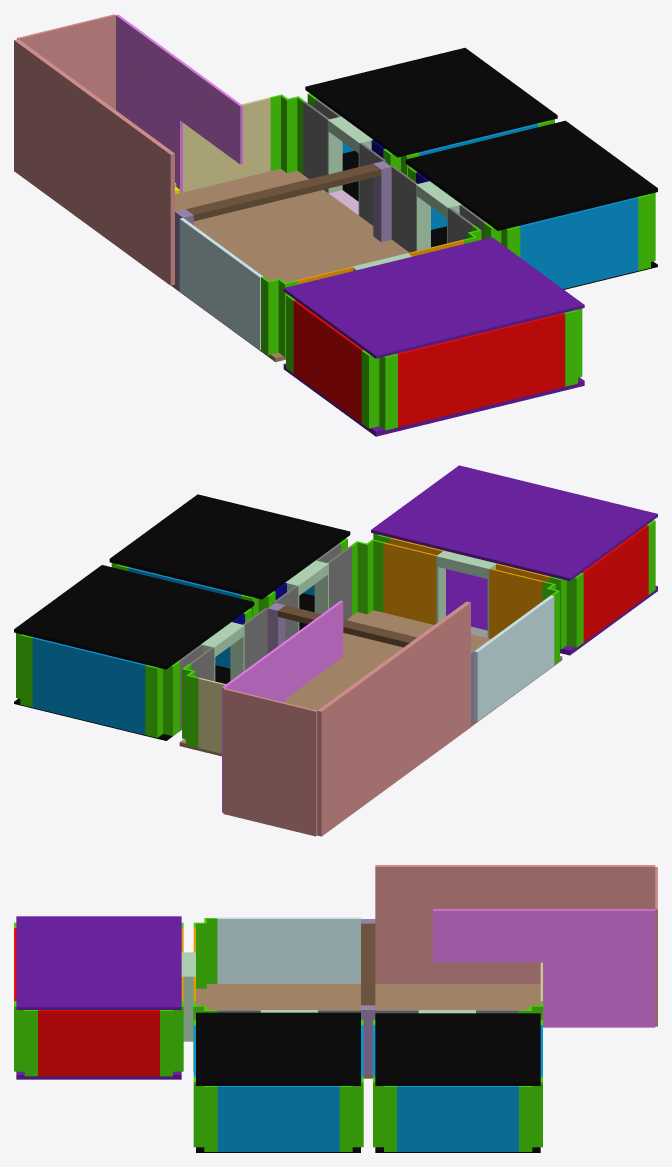
The model's file is blockout_HUD.fbx.
3 renders of one model, top to bottom at view 1: azimuth 30°, elevation 25°; view 2: azimuth 150°, elevation 25°; view 3: azimuth 270°, elevation 25°, orthographic. The views are drawn at different scales.
Parts seen in each view (by area): view 1: pPlane14, pPlane65, pPlane66, pPlane67, pPlane18, pPlane51, hallway_01, pPlane83, pPlane62, pPlane96, pPlane63, pPlane10 (+15 smaller); view 2: pPlane14, pPlane65, pPlane66, pPlane67, pPlane63, pPlane77, pPlane62, hallway_01, pPlane18, pPlane96, pPlane4, pPlane89 (+20 smaller); view 3: hallway_01, pPlane14, pPlane65, pPlane66, pPlane67, pPlane62, pPlane18, pPlane50, pPlane84, pPlane78, corner22, corner21 (+10 smaller).
Part boxes in pixels (left/top/right/bottom): pPlane14: left=14, top=39, right=174, bottom=285; pPlane65: left=283, top=237, right=584, bottom=358; pPlane66: left=405, top=120, right=657, bottom=230; pPlane67: left=305, top=48, right=557, bottom=157; pPlane18: left=171, top=168, right=408, bottom=362; pPlane51: left=397, top=313, right=564, bottom=427; hallway_01: left=116, top=14, right=242, bottom=193; pPlane83: left=519, top=197, right=638, bottom=288; pPlane62: left=179, top=218, right=262, bottom=349; pPlane96: left=293, top=300, right=363, bottom=422; pPlane63: left=17, top=14, right=115, bottom=109; pPlane10: left=183, top=97, right=270, bottom=192; pPlane14: left=317, top=601, right=470, bottom=836; pPlane65: left=371, top=465, right=657, bottom=581; pPlane66: left=109, top=494, right=350, bottom=599; pPlane67: left=14, top=565, right=254, bottom=669; pPlane63: left=223, top=688, right=317, bottom=836; pPlane77: left=32, top=637, right=146, bottom=734; pPlane62: left=474, top=595, right=554, bottom=721; hallway_01: left=222, top=600, right=343, bottom=812; pPlane18: left=179, top=610, right=562, bottom=756; pPlane96: left=582, top=525, right=648, bottom=642; pPlane4: left=383, top=542, right=436, bottom=624; pPlane89: left=489, top=568, right=543, bottom=638; hallway_01: left=433, top=909, right=655, bottom=1027; pPlane14: left=375, top=865, right=655, bottom=983; pPlane65: left=16, top=916, right=181, bottom=1009; pPlane66: left=196, top=1012, right=360, bottom=1085; pPlane67: left=375, top=1013, right=540, bottom=1085; pPlane62: left=217, top=917, right=360, bottom=983; pPlane18: left=196, top=984, right=540, bottom=1078; pPlane50: left=38, top=1010, right=159, bottom=1076; pPlane84: left=217, top=1086, right=339, bottom=1151; pPlane78: left=397, top=1086, right=518, bottom=1151; corner22: left=339, top=1076, right=363, bottom=1151; corner21: left=193, top=1076, right=217, bottom=1151.
Size of the model in its own units: 2800 by 935 by 4485.
